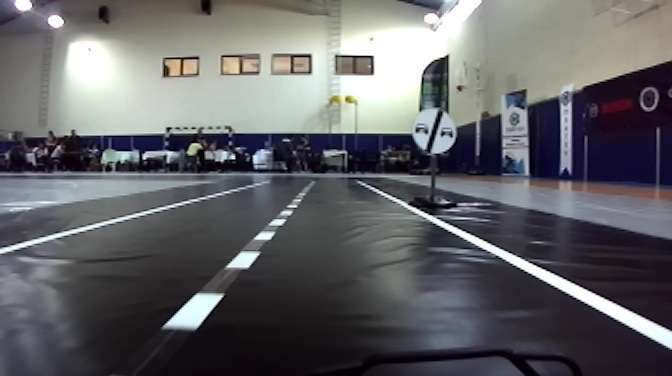sollama_serbest: (410, 106, 455, 152)
